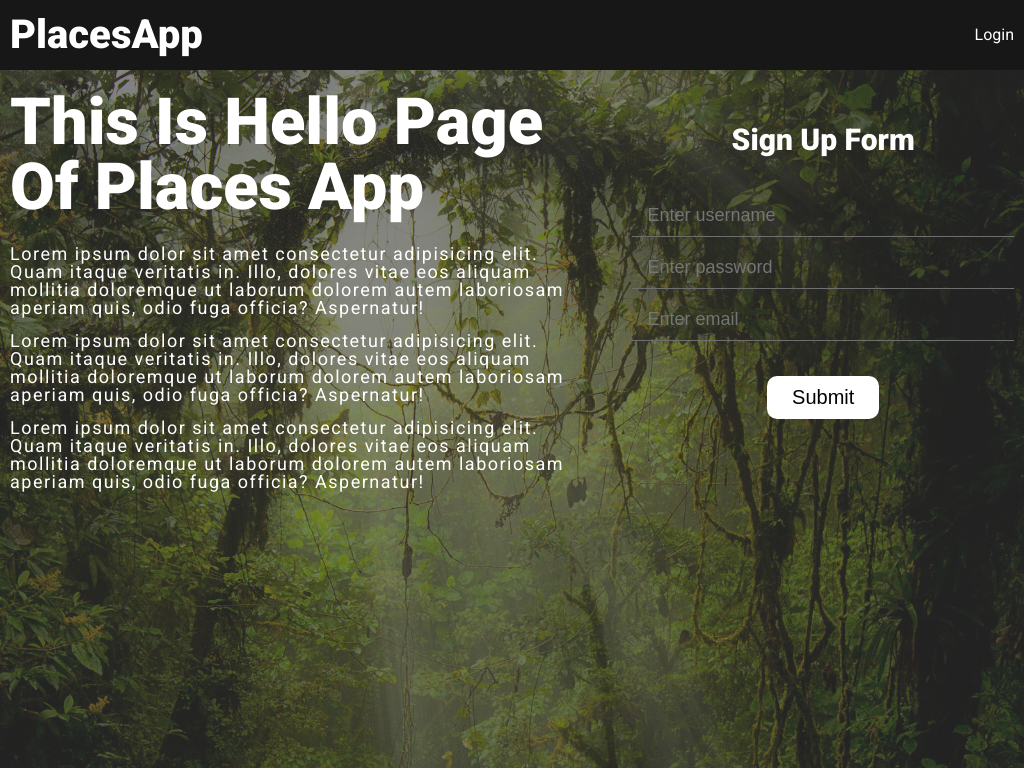
Test: simple render of App component › render App. Got to login page
Click the link "Login" at (994, 34), box [974,25,1014,44]
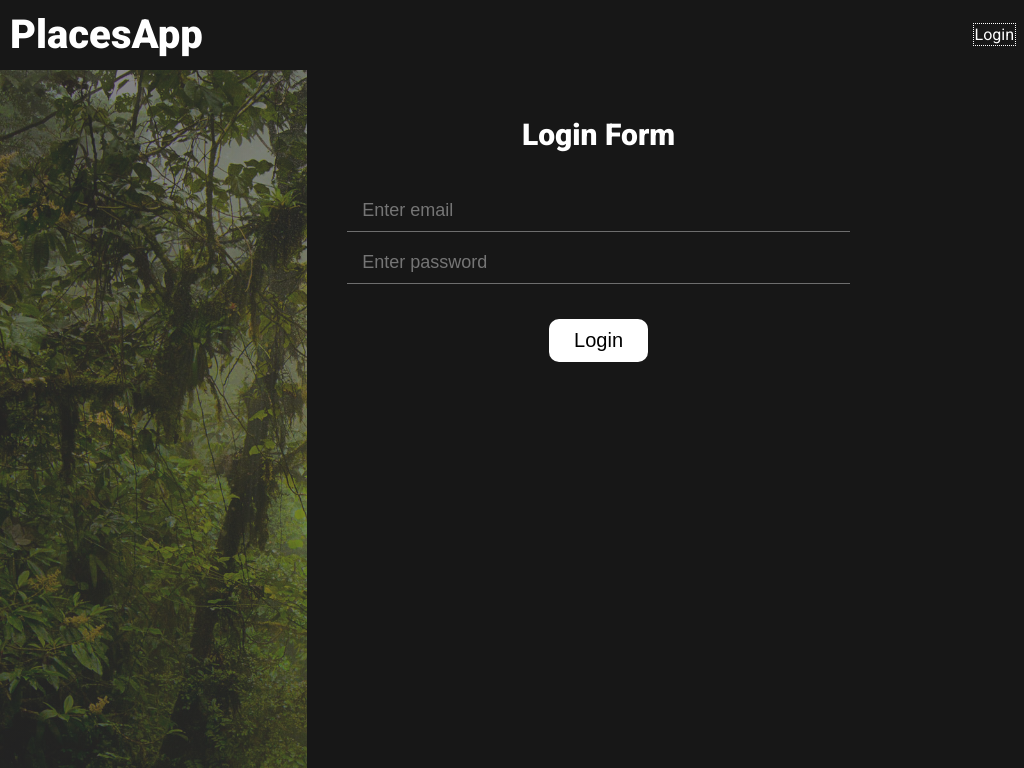
Expected: the field is shown, [347,190,850,232]
Expected: the heading "Login form" is shown, [522,117,675,152]
